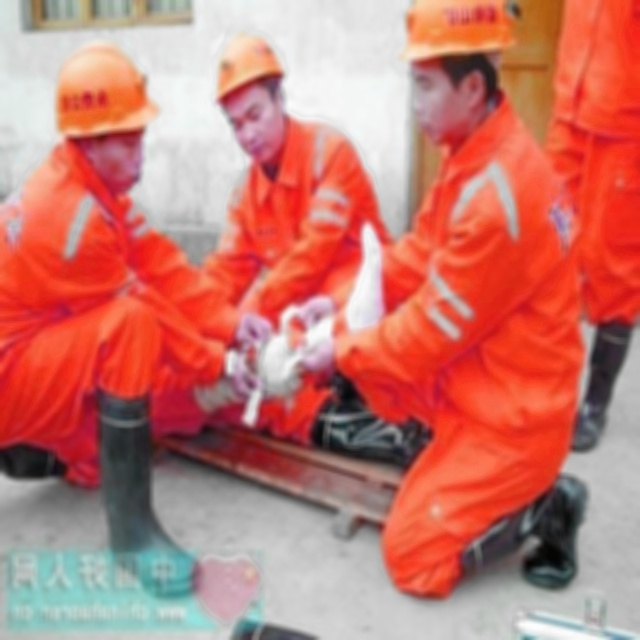Con_Casco: (404, 0, 519, 138), (210, 30, 289, 162)
